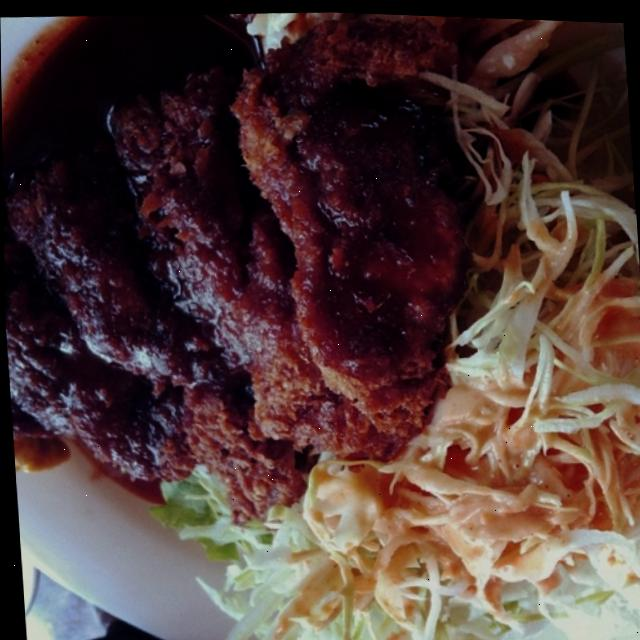鸡肉料理 含炸鸡: (0, 13, 509, 524)
